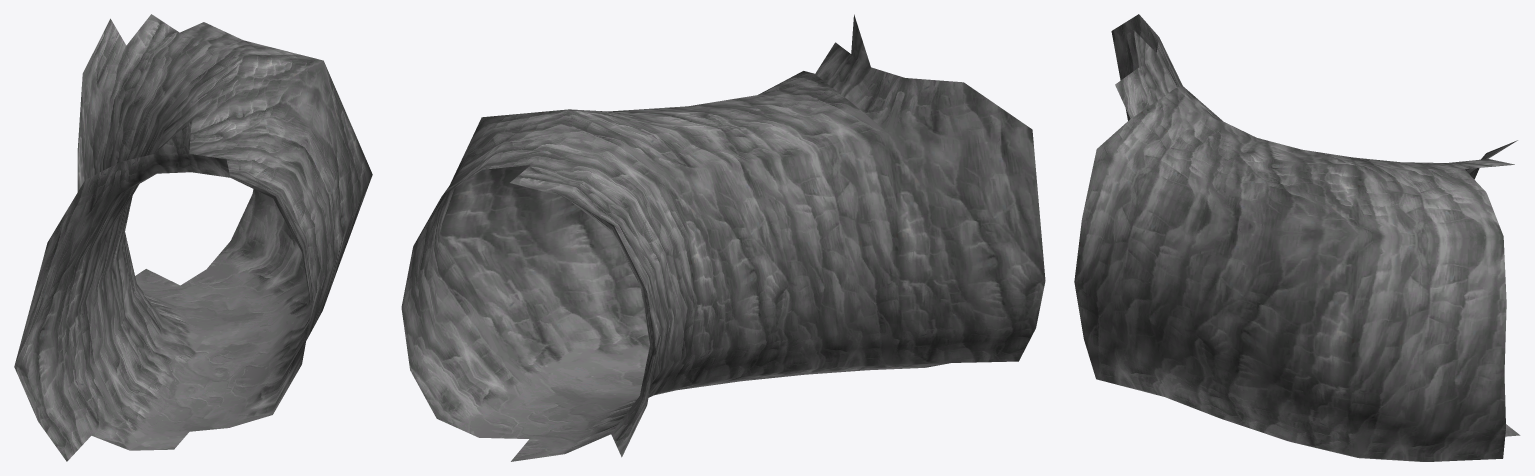
File: SWORDLIGHT20_PS-AREA02-03TRANS_03.fbx
3 renders of one model, left to right at view 1: azimuth 30°, elevation 25°; view 2: azimuth 150°, elevation 25°; view 3: azimuth 270°, elevation 25°, orthographic. The views are drawn at different scales.
Visible parts, largest first — view 1: SWORDLIGHT20_PS-AREA02-03TRANS_03; view 2: SWORDLIGHT20_PS-AREA02-03TRANS_03; view 3: SWORDLIGHT20_PS-AREA02-03TRANS_03.
Boxes of the visible parts, x1,y1,x2,y2 form: SWORDLIGHT20_PS-AREA02-03TRANS_03: [14, 14, 372, 461]; SWORDLIGHT20_PS-AREA02-03TRANS_03: [401, 14, 1045, 461]; SWORDLIGHT20_PS-AREA02-03TRANS_03: [1074, 14, 1520, 461].
Size of the model in its own units: 203836 by 133992 by 161094.
Materials: 3 (3 with a texture image).
